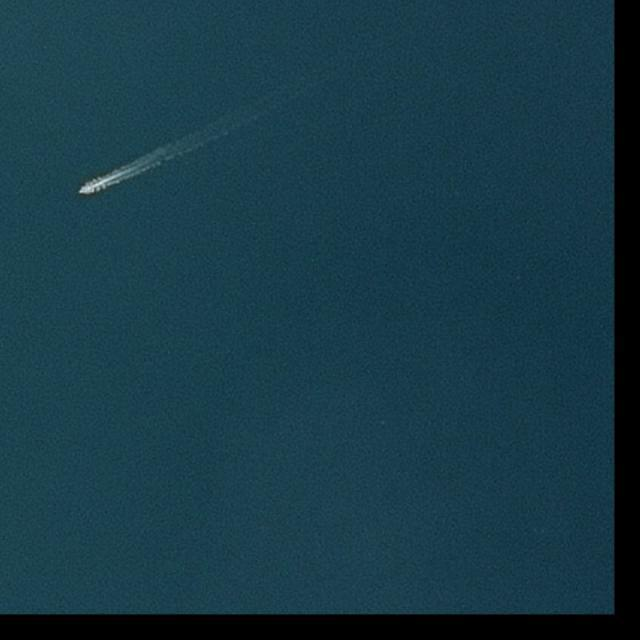ship: (79, 187, 87, 194)
